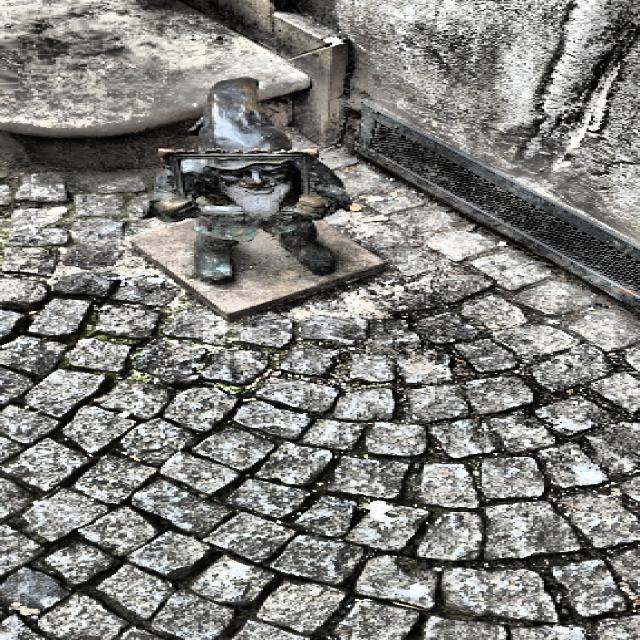Galeriusz: (147, 79, 349, 284)
